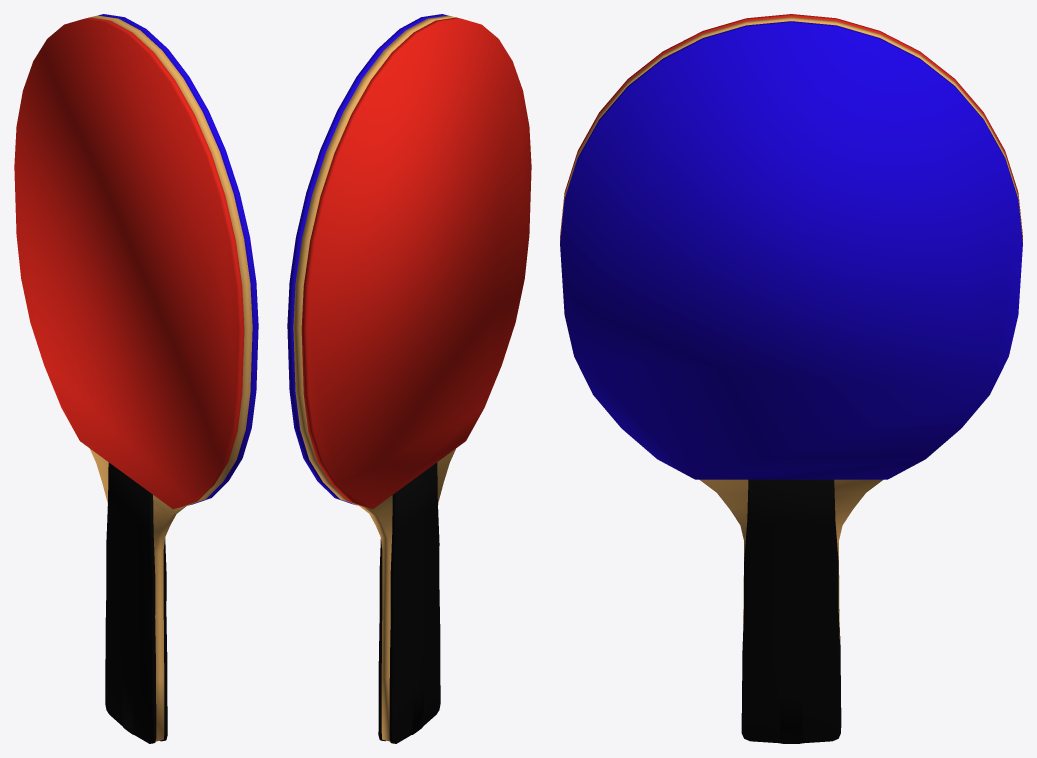
The model's file is racket.glb.
3 views of the same model, side by side, from view 1: azimuth 30°, elevation 25°; view 2: azimuth 150°, elevation 25°; view 3: azimuth 270°, elevation 25° (orthographic). The views are drawn at different scales.
Visible parts, largest first — view 1: Circle.002; view 2: Circle.002; view 3: Circle.002.
Part boxes in pixels (bbox=[...]): Circle.002: bbox=[14, 14, 258, 743]; Circle.002: bbox=[287, 14, 531, 743]; Circle.002: bbox=[560, 14, 1022, 743].
Bounding box in the file's own units: 0.123 × 4.07 × 2.37.
